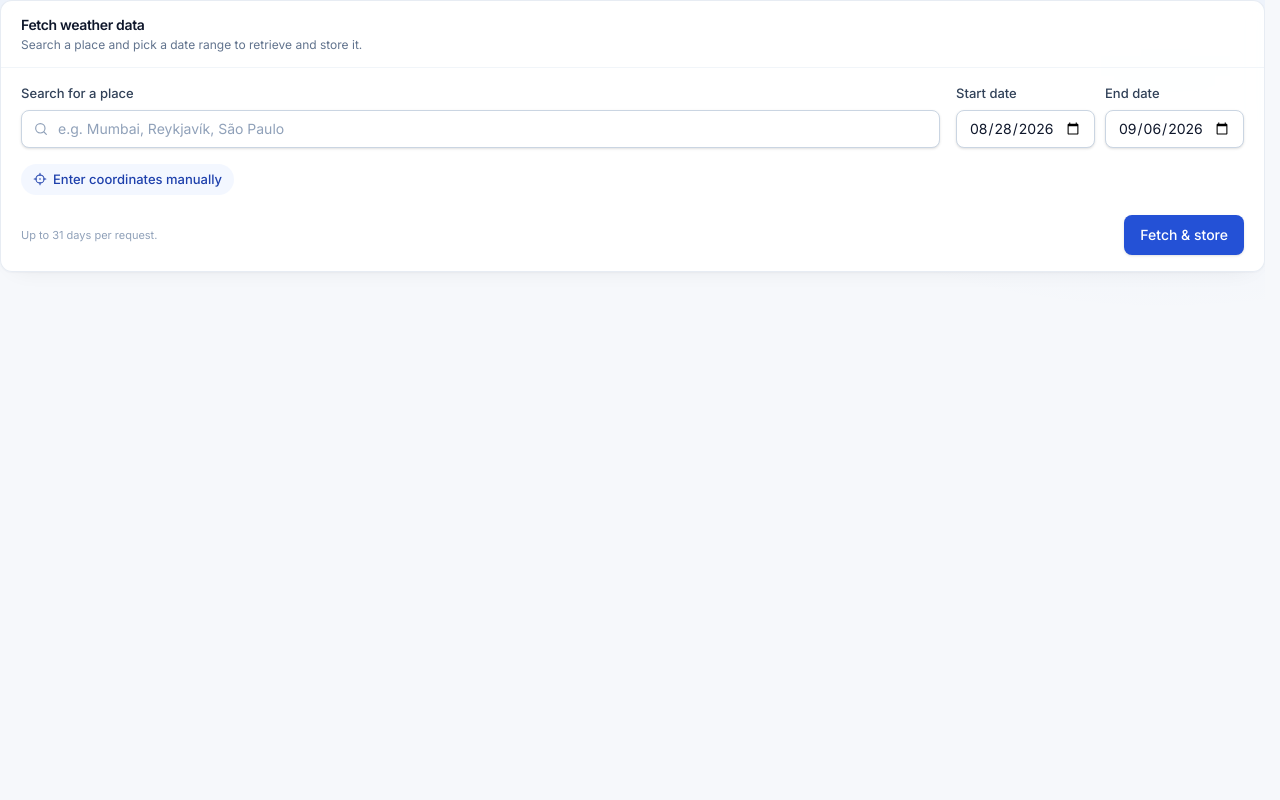
Test: MainFetchPanel › submits the default (valid) draft and reports success via a toast
Click the button "Fetch & store": (1184, 235) [1124, 215, 1244, 255]
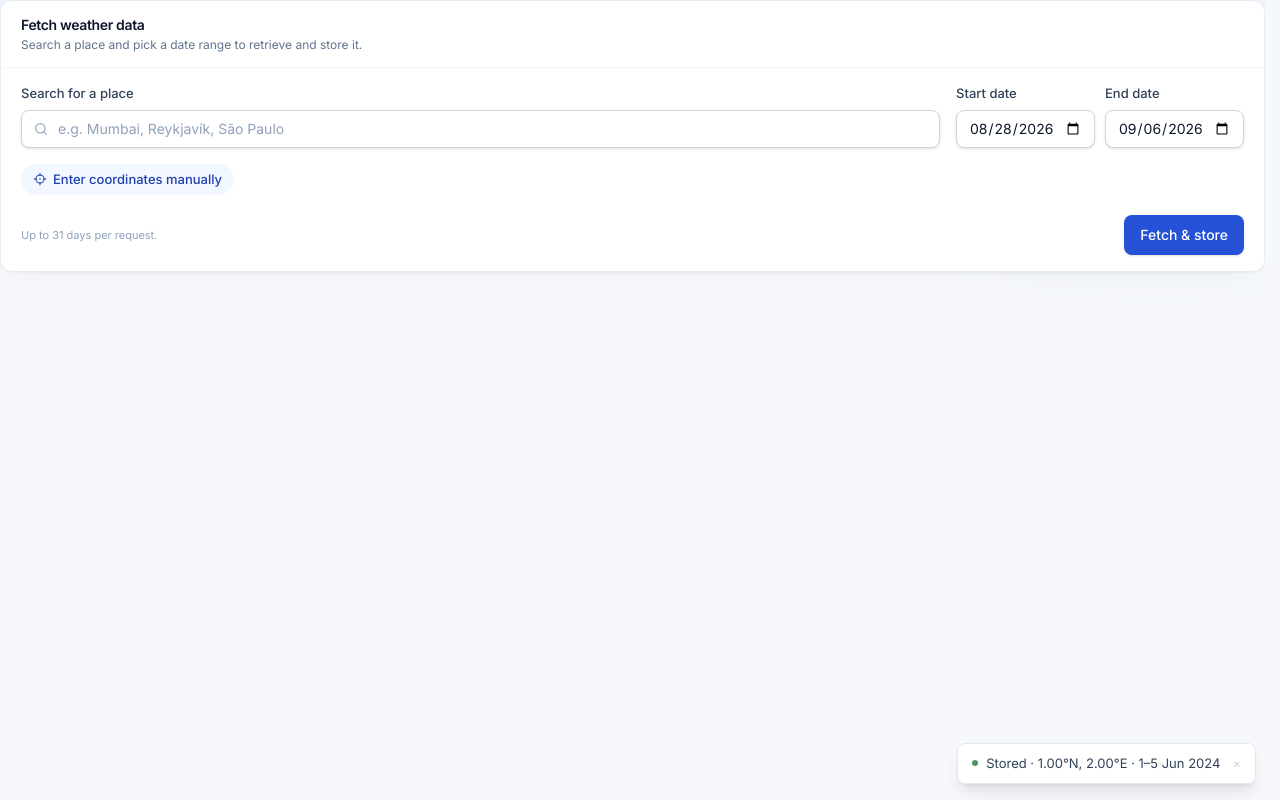
Expected: the text "Stored · 1.00°N, 2.00°E · 1–5 Jun 2024" is shown, [986, 754, 1220, 773]
